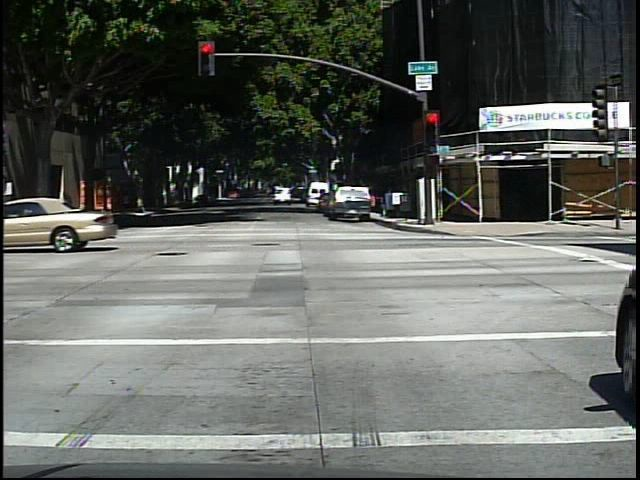person: (52, 186, 82, 239)
